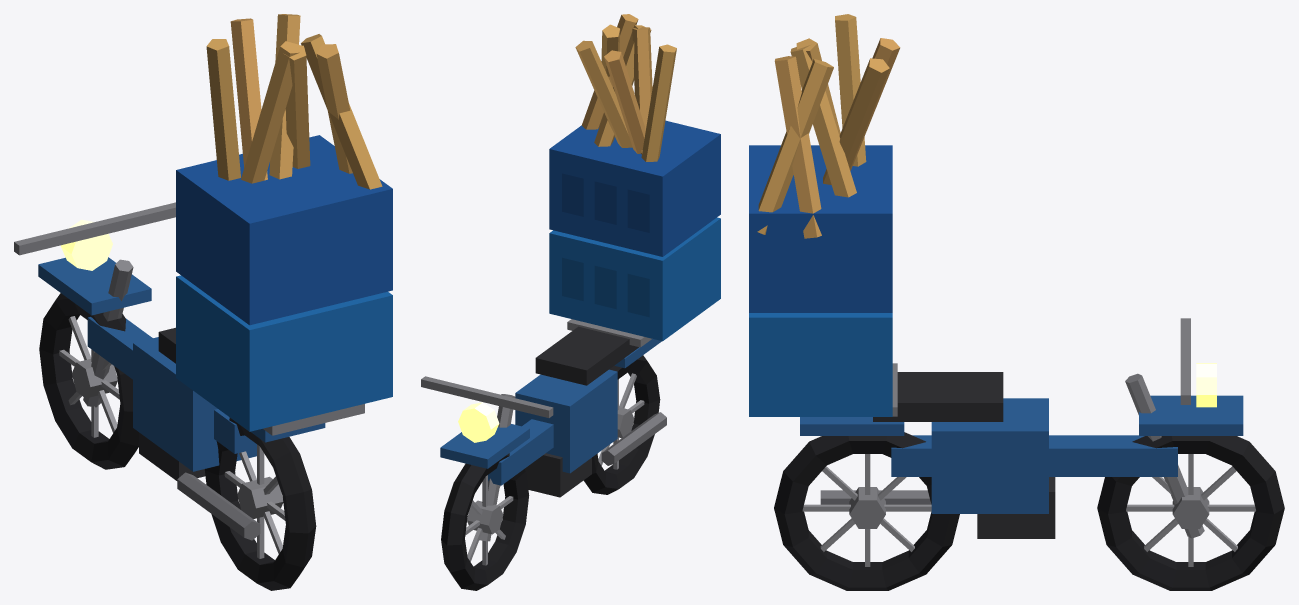
The model's file is moped_delivery.glb.
3 views of the same model, side by side, from view 1: azimuth 30°, elevation 25°; view 2: azimuth 150°, elevation 25°; view 3: azimuth 270°, elevation 25° (orthographic). The views are drawn at different scales.
Parts seen in each view (by area): view 1: moped_delivery; view 2: moped_delivery; view 3: moped_delivery.
Boxes of the visible parts, box(x1,y1,x2,y2) form: moped_delivery: box(14, 14, 392, 590); moped_delivery: box(421, 14, 720, 590); moped_delivery: box(749, 14, 1284, 590).
Bounding box in the file's own units: 0.7 × 2.32 × 2.06.
